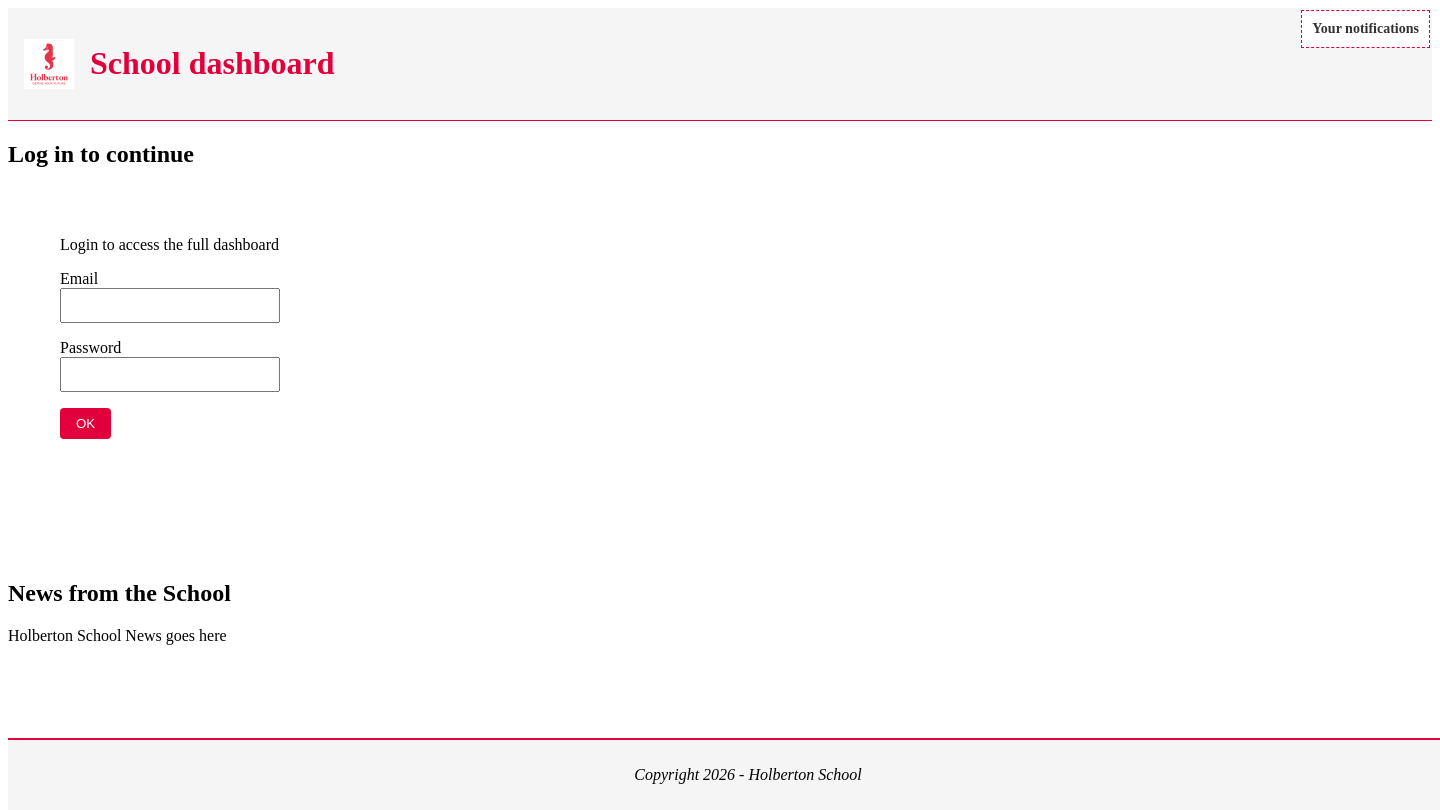
App component › clicking "Your notifications" shows the drawer
Click the text "Your notifications" at {"x": 1366, "y": 29}, box top-left (1312, 21), bottom-right (1419, 37)
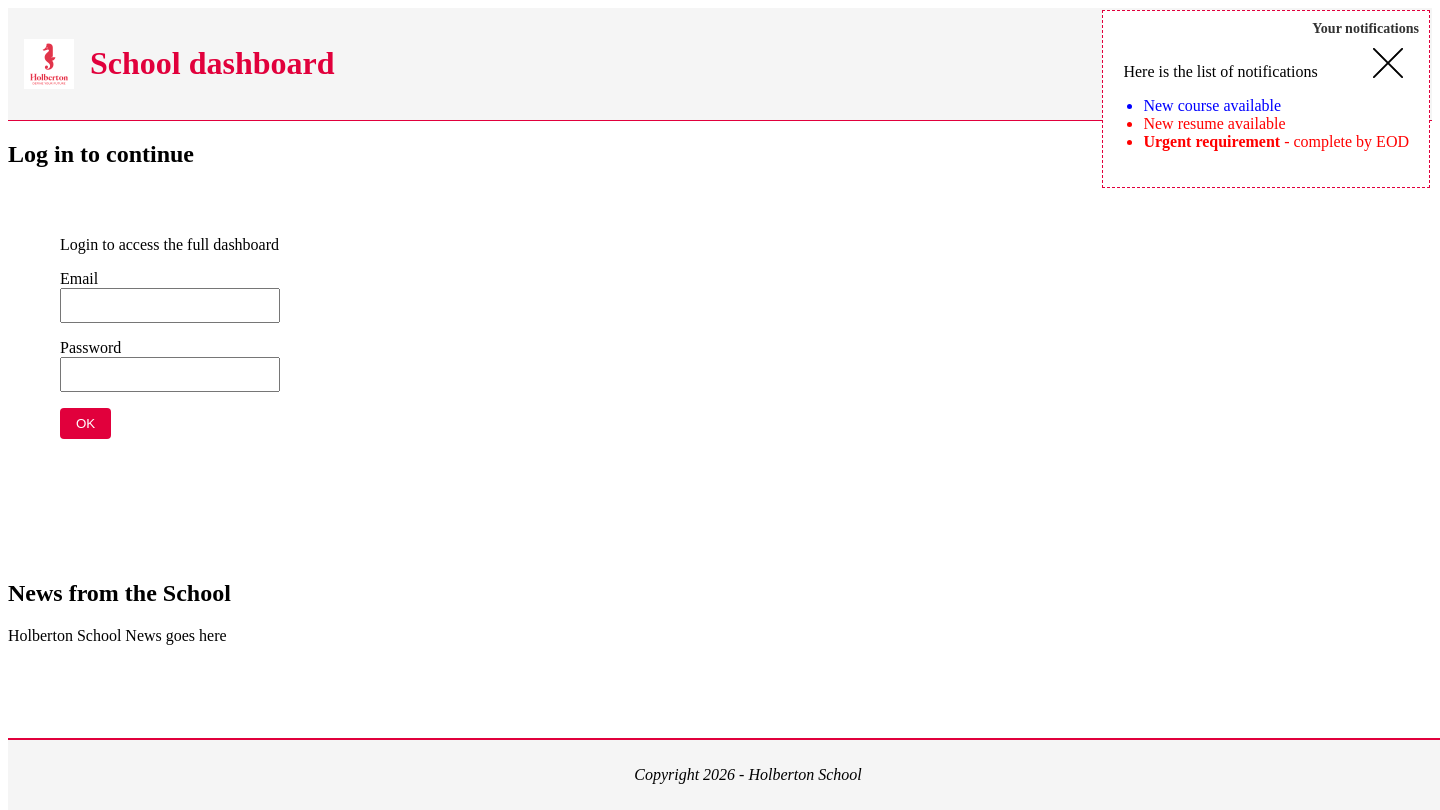
Expected: the text "Here is the list of notifications" is shown, top-left (1123, 63), bottom-right (1318, 80)
